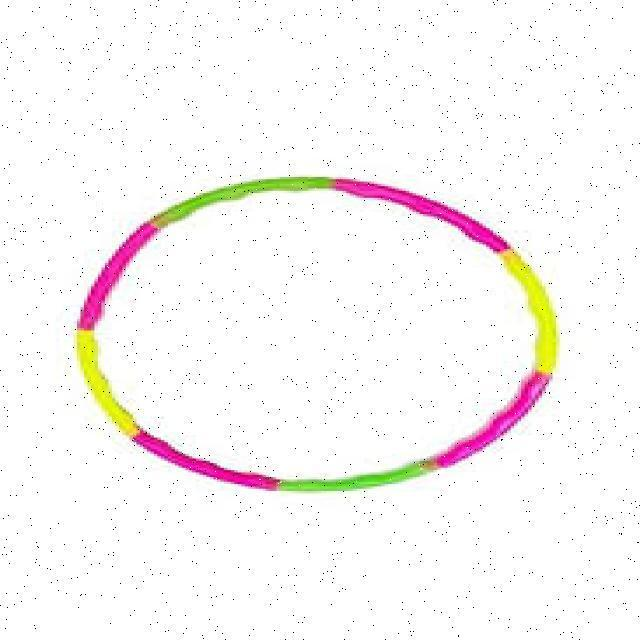Circle: (73, 174, 559, 493)
